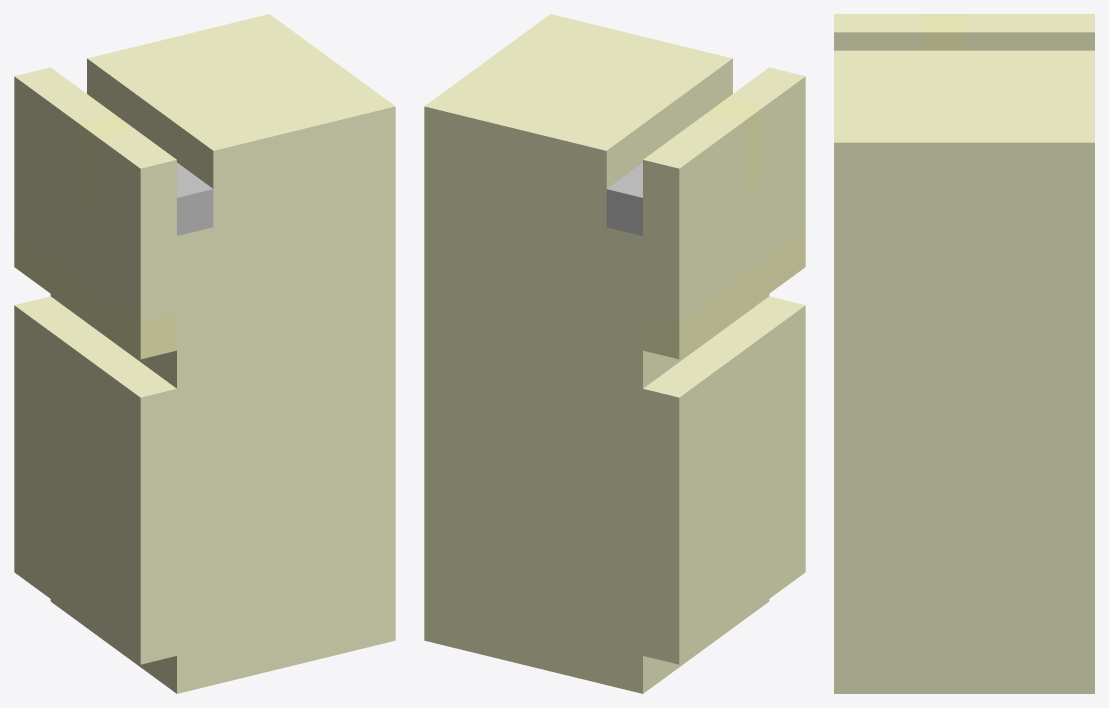
The model's file is refrigerator.obj.
3 views of the same model, side by side, from view 1: azimuth 30°, elevation 25°; view 2: azimuth 150°, elevation 25°; view 3: azimuth 270°, elevation 25° (orthographic). The views are drawn at different scales.
Bounding box in the file's own units: 0.7 × 1.4 × 0.6.
1 material, 1 textured.
